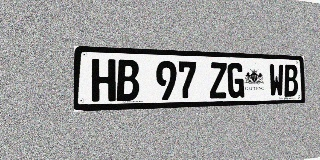7: (177, 61, 197, 100)
9: (156, 61, 177, 100)
B: (117, 59, 139, 101), (284, 64, 298, 97)
G: (227, 63, 244, 98)
H: (92, 59, 116, 102)
W: (269, 64, 284, 97)
Z: (209, 62, 227, 99)
